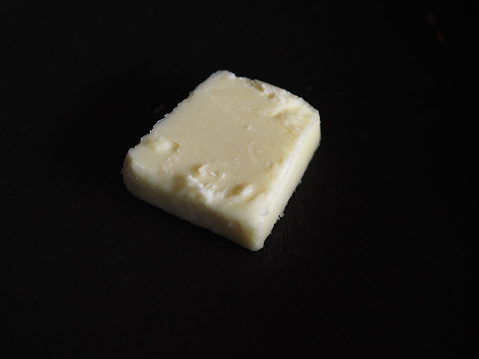Butter: (123, 70, 320, 249)
